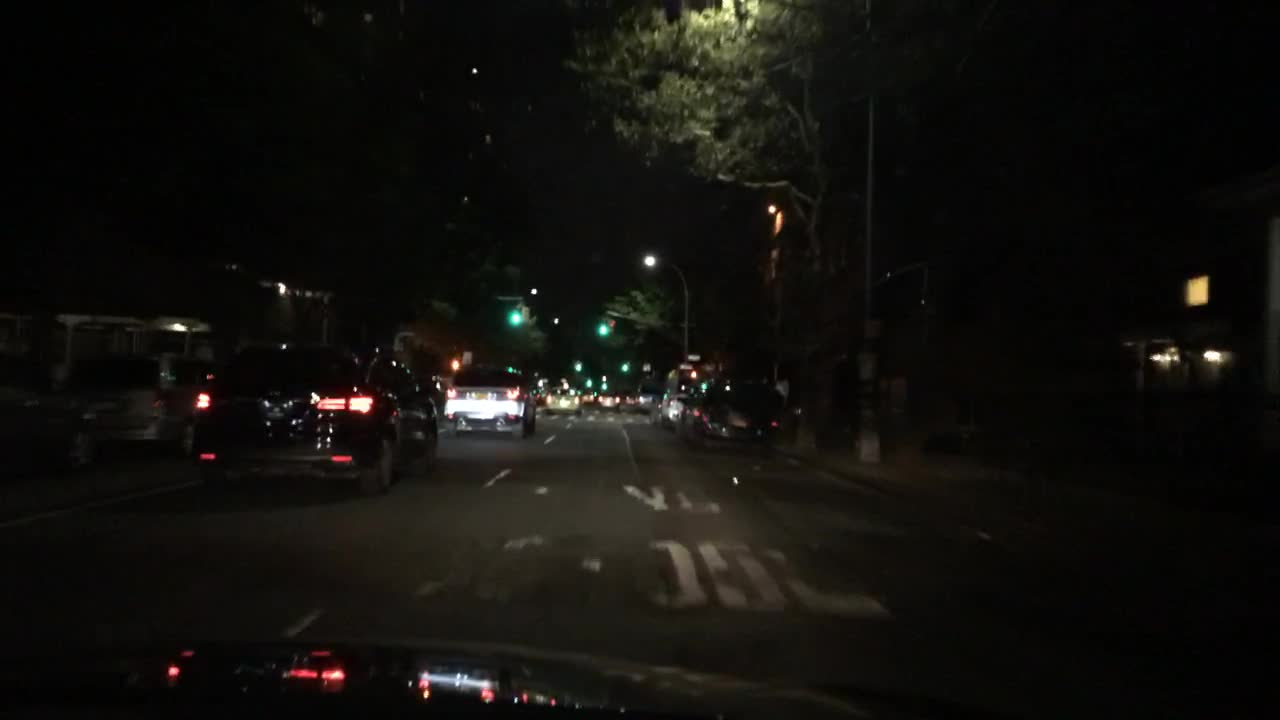car: (188, 341, 438, 494), (73, 351, 199, 457), (0, 347, 93, 473), (678, 384, 783, 457), (651, 383, 696, 429), (543, 384, 580, 417), (640, 375, 660, 414), (597, 384, 621, 410), (625, 388, 639, 405), (584, 391, 594, 404), (536, 392, 545, 405)
traffic light: (510, 307, 521, 324), (606, 320, 615, 334), (451, 357, 459, 372), (689, 368, 697, 379), (600, 321, 606, 334), (575, 359, 582, 370), (586, 378, 593, 388), (600, 378, 607, 388), (624, 363, 628, 373)
traffic sign: (642, 363, 655, 372), (680, 363, 693, 372), (685, 352, 700, 359)
truck: (445, 366, 530, 440)
